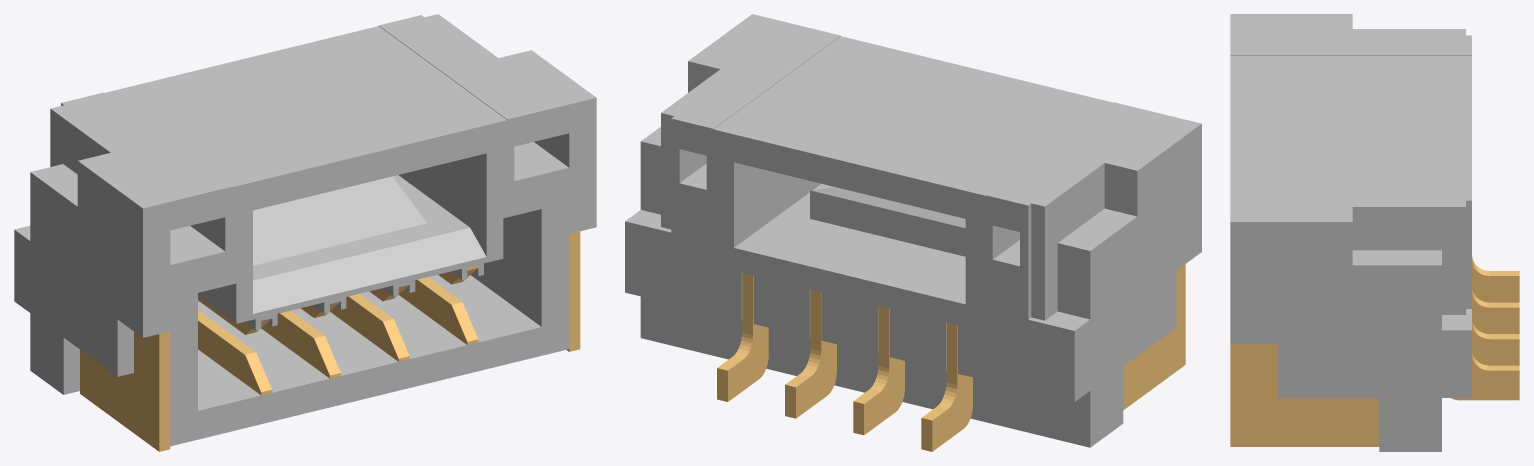
The model's file is SM04B-GHS-TB.obj.
3 views of the same model, side by side, from view 1: azimuth 30°, elevation 25°; view 2: azimuth 150°, elevation 25°; view 3: azimuth 270°, elevation 25° (orthographic). The views are drawn at different scales.
Parts seen in each view (by area): view 1: SM04B-GHS-TB; view 2: SM04B-GHS-TB; view 3: SM04B-GHS-TB.
Part boxes in pixels (box(x1,y1,x2,y2)): SM04B-GHS-TB: box(14, 14, 596, 451); SM04B-GHS-TB: box(625, 14, 1201, 451); SM04B-GHS-TB: box(1230, 14, 1519, 451).
Size of the model in its own units: 0.0139 by 0.00723 by 0.00815.
